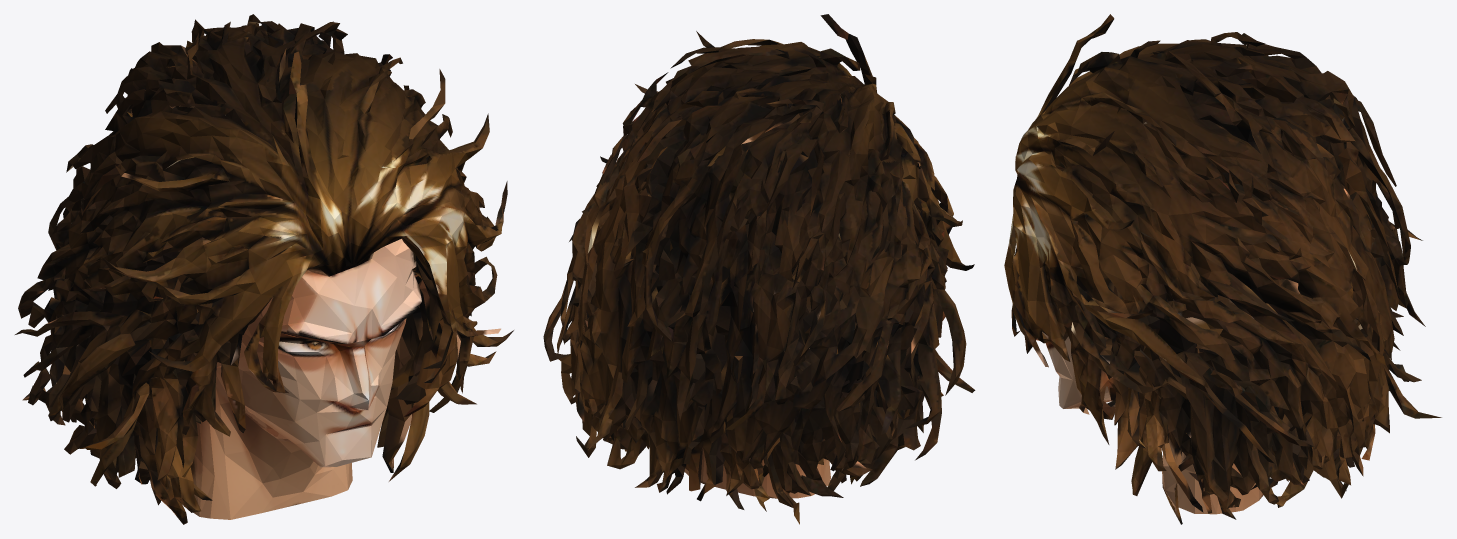
The model's file is side_toturi_repaired_atlas.glb.
3 views of the same model, side by side, from view 1: azimuth 30°, elevation 25°; view 2: azimuth 150°, elevation 25°; view 3: azimuth 270°, elevation 25° (orthographic). The views are drawn at different scales.
Parts seen in each view (by area): view 1: temp_mesh.ply; view 2: temp_mesh.ply; view 3: temp_mesh.ply.
Part boxes in pixels (x1,y1,x2,y2): temp_mesh.ply: [15, 14, 513, 524]; temp_mesh.ply: [543, 14, 975, 524]; temp_mesh.ply: [1004, 14, 1441, 524].
Size of the model in its own units: 1.39 by 1.49 by 1.31.
Materials: 1 (1 with a texture image).
